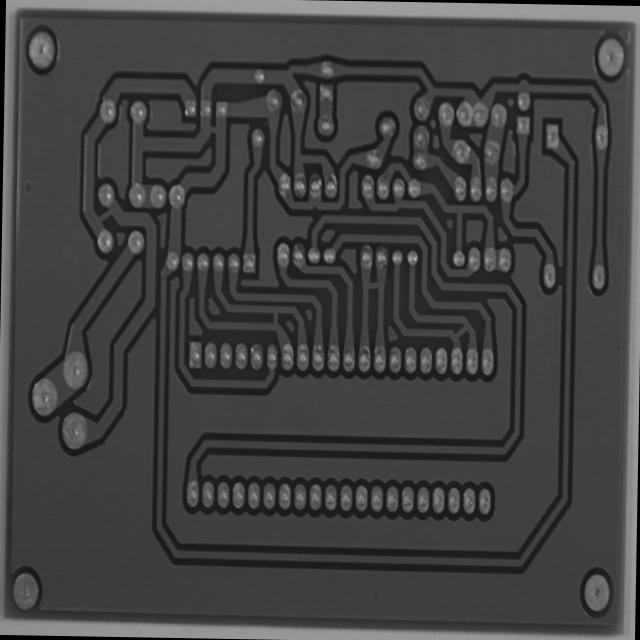short: (87, 198, 119, 231), (445, 314, 474, 346), (261, 302, 287, 332), (199, 116, 225, 144), (360, 273, 385, 300)
